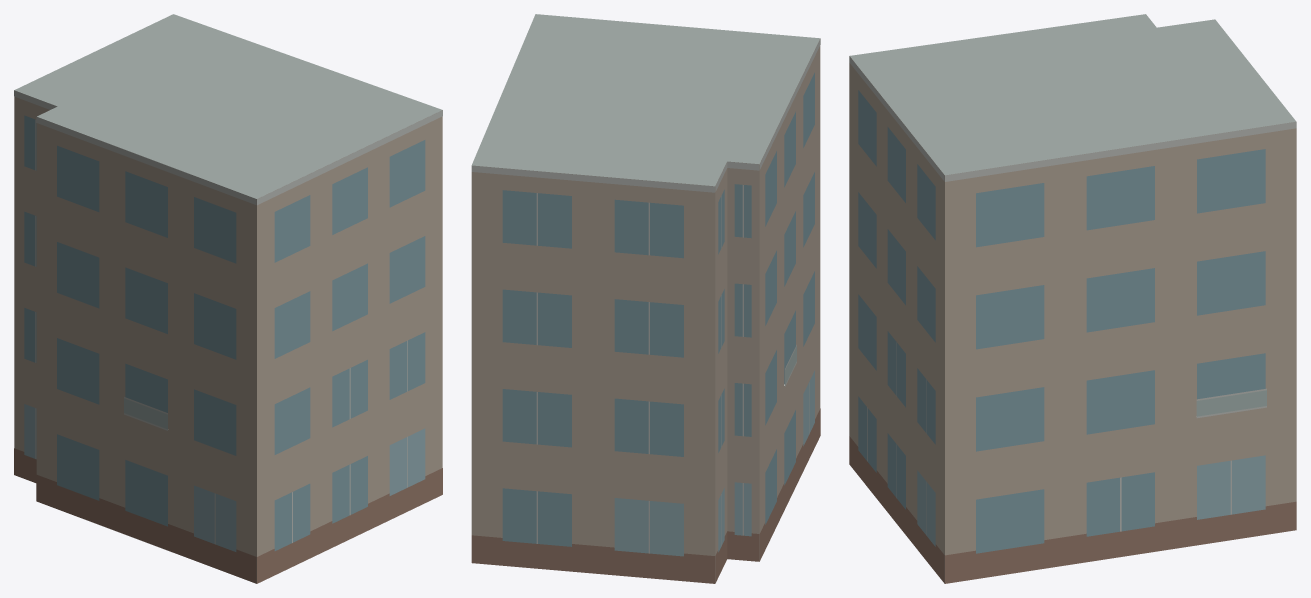
The model's file is survey-upis-32799322.glb.
The picture shows the model from 3 angles, left to right: view 1: azimuth 30°, elevation 25°; view 2: azimuth 150°, elevation 25°; view 3: azimuth 270°, elevation 25°; orthographic projection. The views are drawn at different scales.
Visible parts, largest first — view 1: survey-upis-32799322.tmp; view 2: survey-upis-32799322.tmp; view 3: survey-upis-32799322.tmp.
Part boxes in pixels (<box>): survey-upis-32799322.tmp: <box>14,14,442,583</box>; survey-upis-32799322.tmp: <box>471,14,820,583</box>; survey-upis-32799322.tmp: <box>849,14,1296,583</box>.
Size of the model in its own units: 12.72 by 15 by 14.89.
